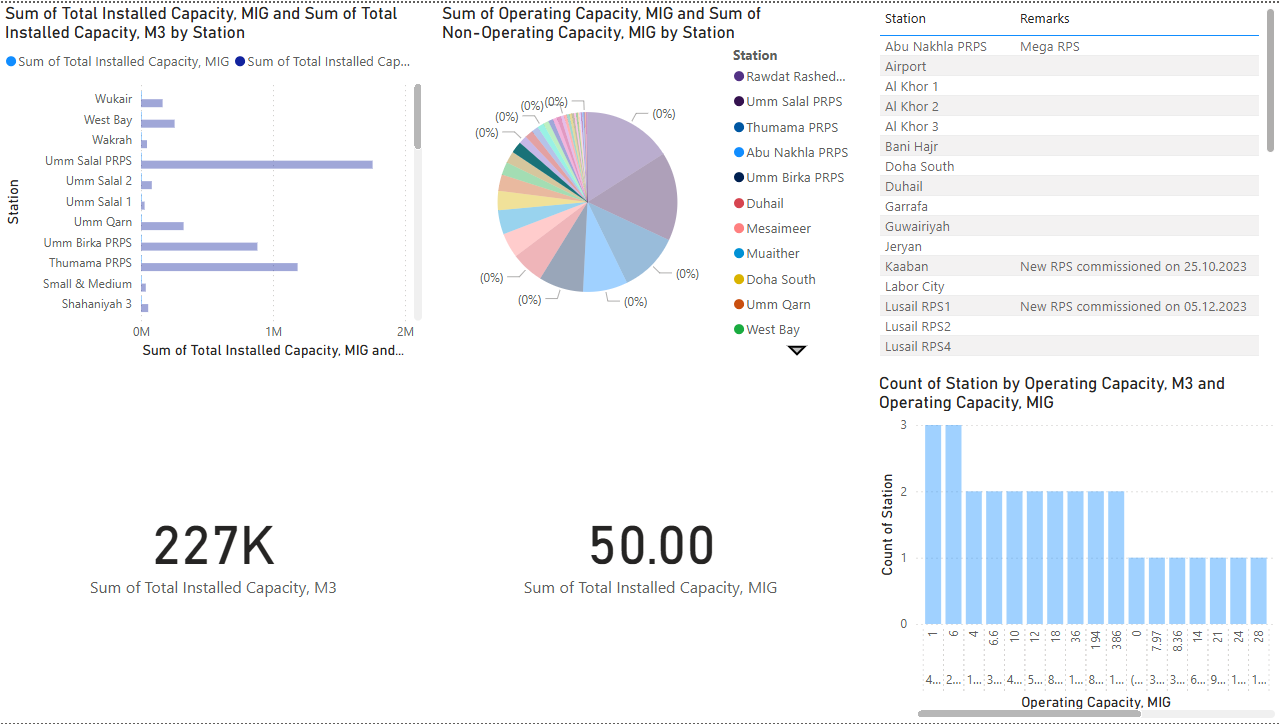

The dashboard page shown, as its layout file describes it:
{"tool":"powerbi","page":{"name":"Page 1","canvas":[1280,720],"ordinal":0},"visuals":[{"type":"clusteredBarChart","fields":{"Y":["Sum(Feuil1.Total Installed Capacity, MIG)","Sum(Feuil1.Total Installed Capacity, M3)"],"Category":["Feuil1.Station"]},"box":[0,0,427,359.9],"z":1},{"type":"pieChart","fields":{"Category":["Feuil1.Station"],"Y":["Sum(Feuil1.Operating Capacity, MIG)","Sum(Feuil1.Non-Operating Capacity, MIG)"]},"box":[436.7,0,427,359.9],"z":2},{"type":"tableEx","fields":{"Values":["Feuil1.Station","Feuil1.Remarks"]},"box":[874.4,0,405.6,359.9],"z":3},{"type":"card","fields":{"Values":["Sum(Feuil1.Total Installed Capacity, M3)"]},"box":[0,370,427,350],"z":4},{"type":"card","fields":{"Values":["Sum(Feuil1.Total Installed Capacity, MIG)"]},"box":[437,370,427,350],"z":5},{"type":"clusteredColumnChart","fields":{"Category":["Feuil1.Operating Capacity, M3","Feuil1.Operating Capacity, MIG"],"Y":["CountNonNull(Feuil1.Station)"]},"box":[874,370,406,350],"z":6}]}

Visuals, with their boxes in screenshot pixels (x1, y1, x2, y2), scaled from the page's 1280x720 canvas onto the 1280x724 screenshot:
clusteredBarChart - Sum(Feuil1.Total Installed Capacity, MIG) x Sum(Feuil1.Total Installed Capacity, M3): select_region(0, 0, 427, 362)
pieChart - Feuil1.Station x Sum(Feuil1.Operating Capacity, MIG): select_region(437, 0, 864, 362)
tableEx - Feuil1.Station x Feuil1.Remarks: select_region(874, 0, 1279, 362)
card - Sum(Feuil1.Total Installed Capacity, M3): select_region(0, 372, 427, 723)
card - Sum(Feuil1.Total Installed Capacity, MIG): select_region(437, 372, 864, 723)
clusteredColumnChart - Feuil1.Operating Capacity, M3 x Feuil1.Operating Capacity, MIG: select_region(874, 372, 1279, 723)
